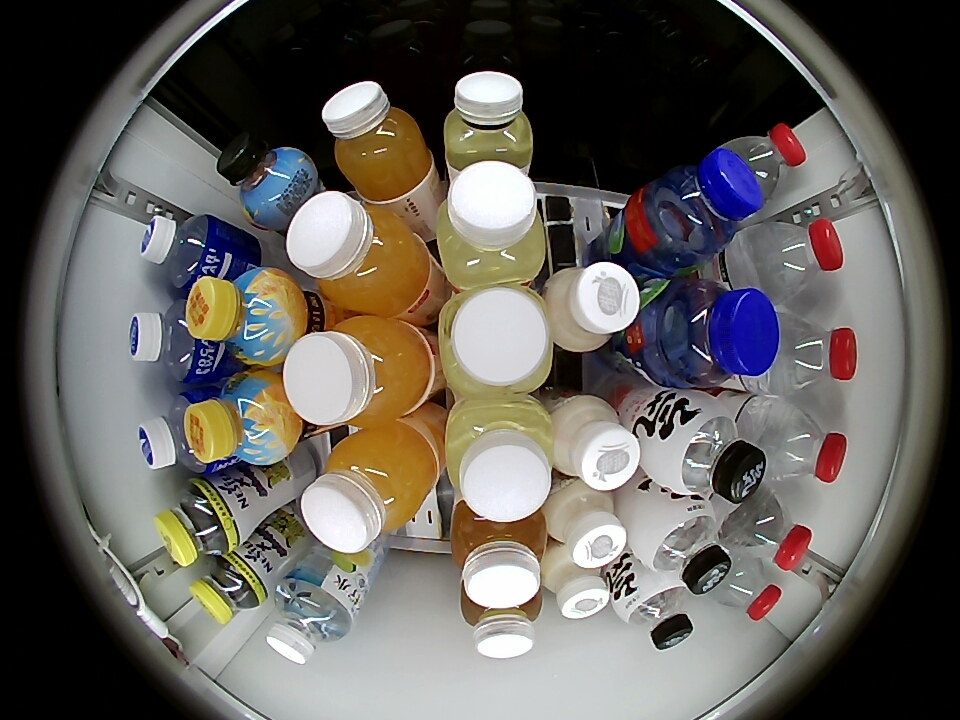baokuangli: (128, 301, 213, 384), (140, 211, 223, 290), (138, 390, 214, 473)
chacui: (154, 478, 238, 566), (190, 553, 266, 624)
chapai: (450, 502, 547, 609), (460, 586, 542, 659)
chapai2: (437, 161, 546, 289), (445, 396, 554, 522), (440, 285, 553, 398), (443, 71, 533, 174)
guolicheng: (186, 267, 305, 366), (185, 370, 296, 468)
guolicheng2: (216, 133, 314, 226)
maidong: (643, 149, 764, 259), (656, 280, 780, 385)
nongfushanquan: (742, 216, 844, 299), (753, 399, 848, 486), (767, 312, 858, 394), (725, 493, 813, 570), (723, 123, 806, 202), (710, 554, 783, 621)
qinningshui: (265, 575, 354, 666)
weic: (300, 423, 440, 553), (286, 193, 432, 316), (283, 317, 436, 426), (322, 81, 434, 202)
weiweidounai: (550, 394, 641, 492), (546, 261, 641, 353), (546, 481, 627, 569), (542, 547, 610, 620)
yuanqishui: (646, 394, 769, 503), (631, 495, 732, 594), (614, 574, 694, 650)
